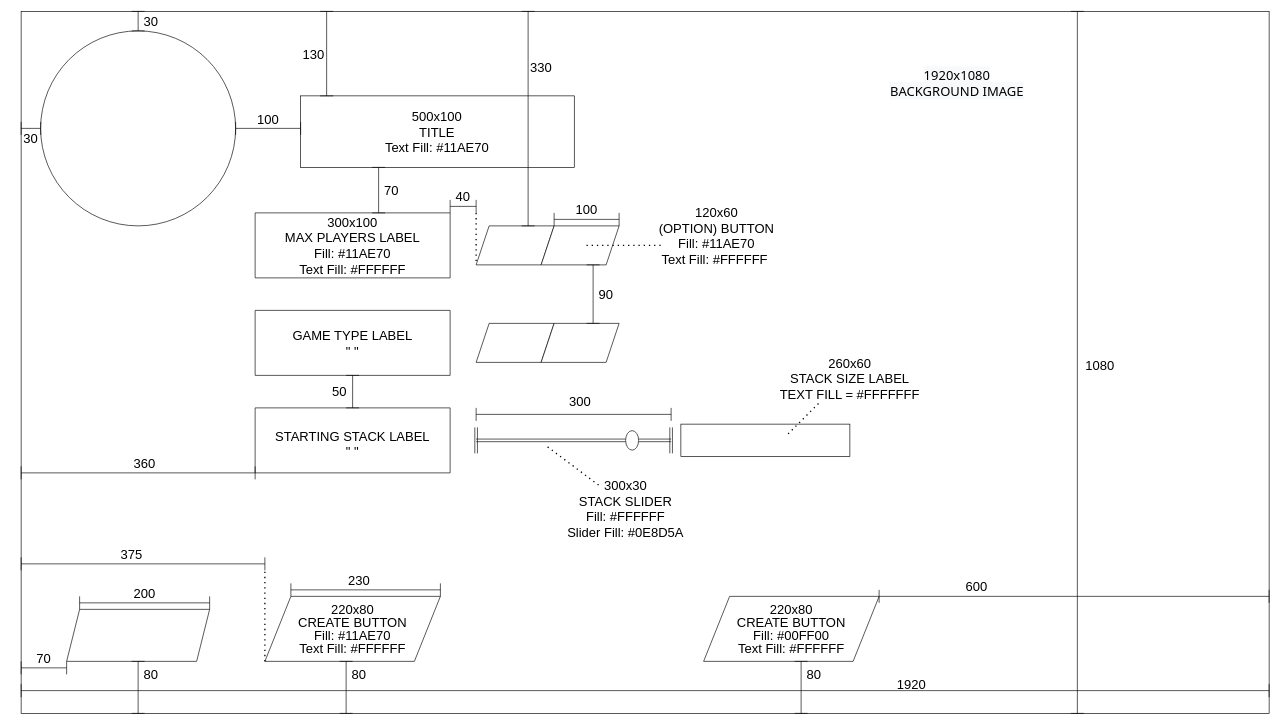
Image size: 1281x725. Some labels were removed from this diagram. Each missing label, with the centre of its shape:
"220x80 CANCEL BUTTON Fill: #FF0000 Text Fill: #FFFFFF" belongs at (138,635).
"300x300 (LOGO) Fill : #11AE70" belongs at (138,128).
